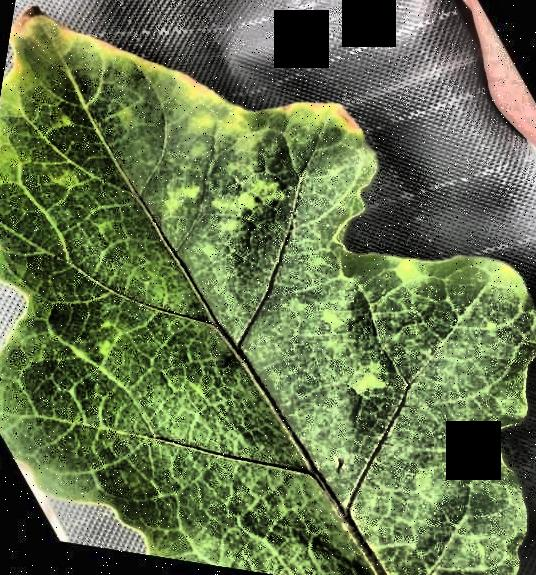Non-critical Stress: (0, 1, 536, 575)
